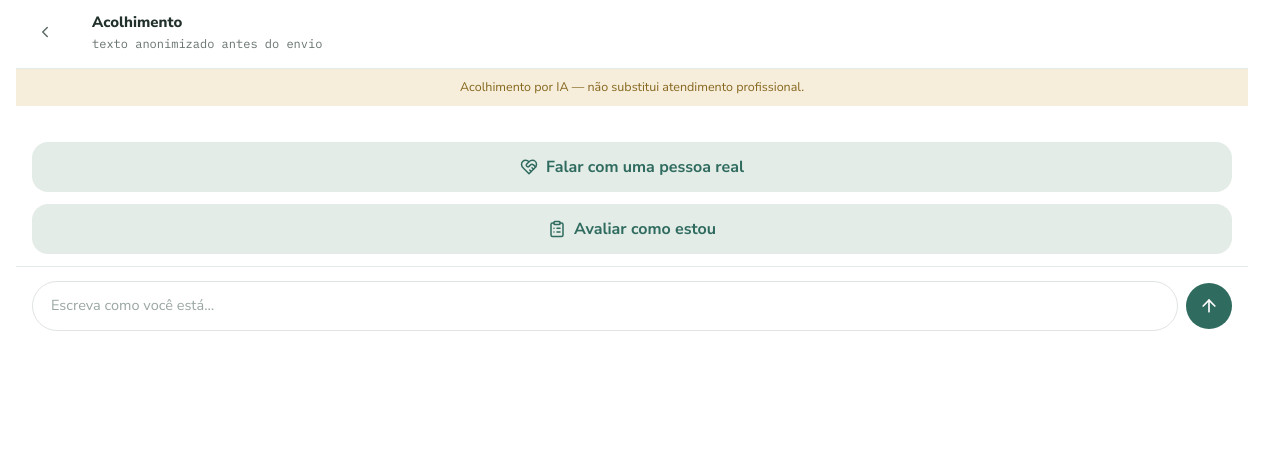
Test: ChatPage › sends a message and streams the assistant reply into a styled bubble
Type "Estou bem" into the field with placeholder "Escreva como você está…" at (605, 306), box [32, 281, 1178, 331]
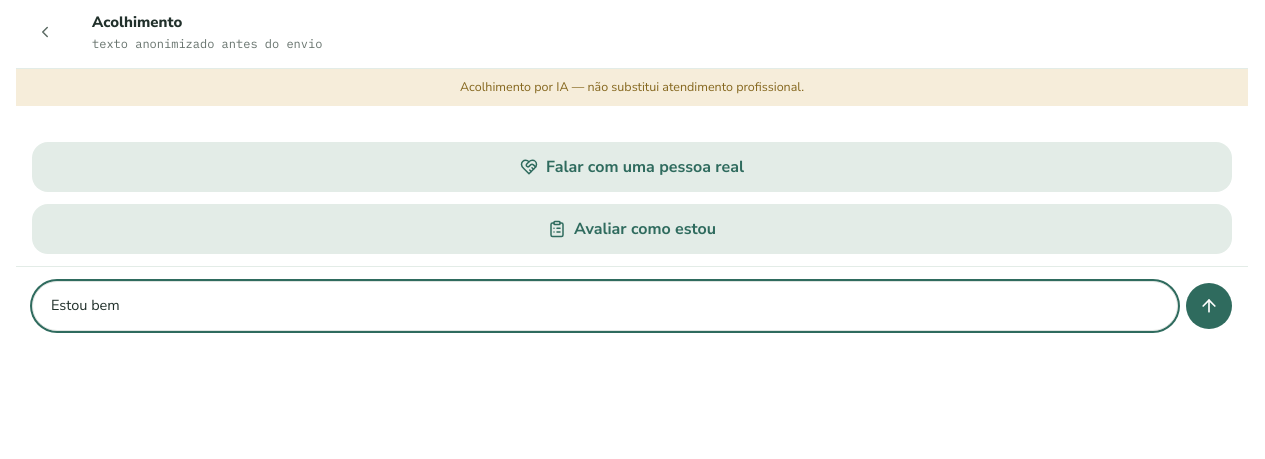
Click the button named "Enviar" at (1209, 306), box [1186, 283, 1232, 329]
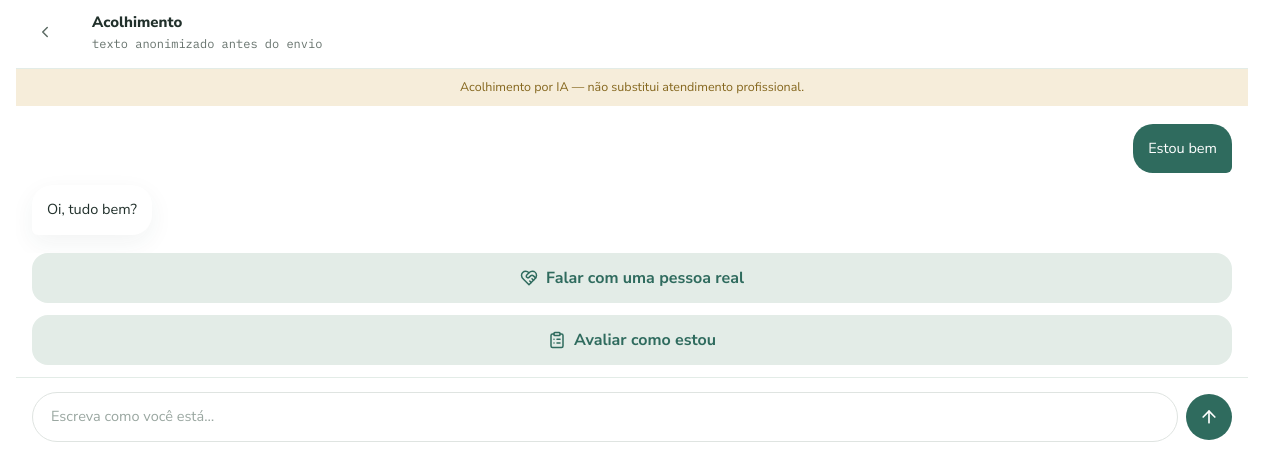
Expected: the text "Estou bem" is shown, [1133, 124, 1232, 173]
Expected: the text "Oi, tudo bem?" is shown, [32, 185, 152, 235]
